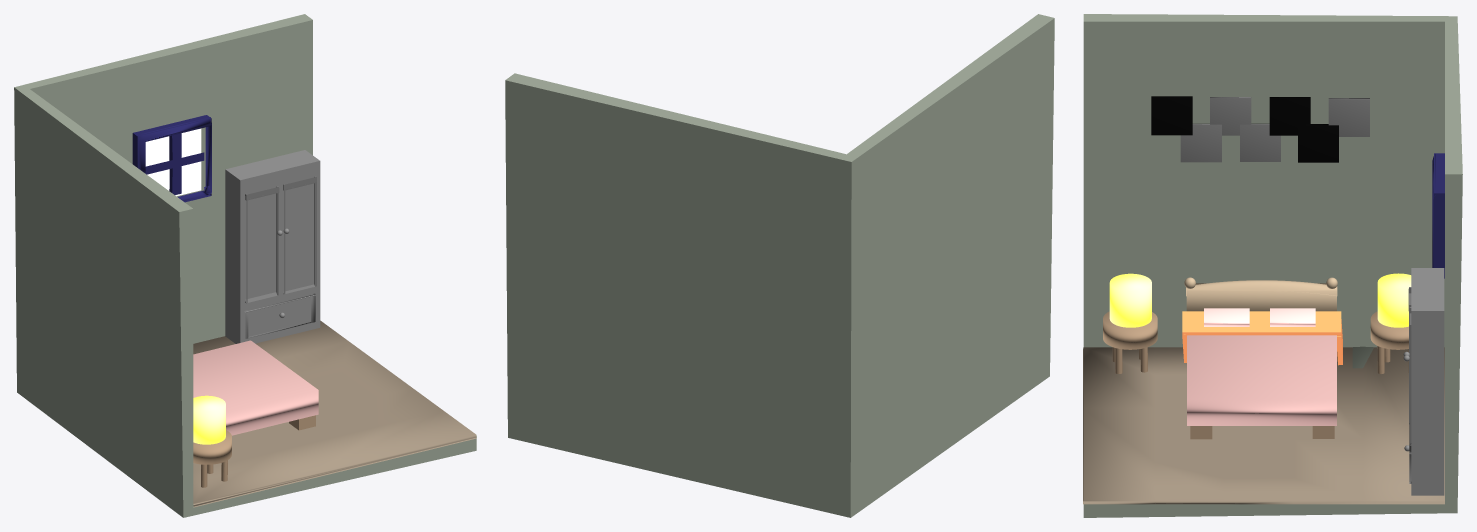
Rendered from myhome.glb.
3 renders of one model, left to right at view 1: azimuth 30°, elevation 25°; view 2: azimuth 150°, elevation 25°; view 3: azimuth 270°, elevation 25°, orthographic. The views are drawn at different scales.
Parts seen in each view (by area): view 1: Cube.028, Cube.001, Cube.016, Cube.002, Cube.027, Cube.014, Cylinder.005, Cube.015, Cylinder, Cube.017, Cube.018, Cube.013 (+1 smaller); view 2: Cube.028; view 3: Cube.028, Cube.001, Cube.002, Cube.016, Cube.007, Cube.009, Cylinder.005, Cylinder.011, Cube.020, Cube.025, Cube.021, Cube.026 (+9 smaller).
Boxes of the visible parts, x1=… form: Cube.028: x1=14, y1=14, x2=476, y2=517; Cube.001: x1=193, y1=320, x2=476, y2=507; Cube.016: x1=225, y1=150, x2=320, y2=343; Cube.002: x1=193, y1=340, x2=318, y2=435; Cube.027: x1=145, y1=128, x2=201, y2=196; Cube.014: x1=137, y1=117, x2=211, y2=200; Cylinder.005: x1=193, y1=395, x2=225, y2=444; Cube.015: x1=145, y1=133, x2=204, y2=194; Cylinder: x1=193, y1=430, x2=231, y2=464; Cube.017: x1=245, y1=186, x2=279, y2=303; Cube.018: x1=283, y1=176, x2=316, y2=294; Cube.013: x1=132, y1=115, x2=211, y2=202; Cube.028: x1=505, y1=14, x2=1054, y2=517; Cube.028: x1=1083, y1=14, x2=1462, y2=517; Cube.001: x1=1083, y1=346, x2=1444, y2=504; Cube.002: x1=1187, y1=335, x2=1336, y2=425; Cube.016: x1=1411, y1=268, x2=1444, y2=495; Cube.007: x1=1186, y1=283, x2=1336, y2=311; Cube.009: x1=1182, y1=311, x2=1341, y2=336; Cylinder.005: x1=1109, y1=273, x2=1151, y2=327; Cylinder.011: x1=1377, y1=273, x2=1411, y2=327; Cube.020: x1=1151, y1=96, x2=1192, y2=135; Cube.025: x1=1298, y1=124, x2=1338, y2=162; Cube.021: x1=1180, y1=123, x2=1221, y2=162; Cube.026: x1=1328, y1=98, x2=1369, y2=136.
Size of the model in its own units: 7.44 by 7.44 by 7.45.
